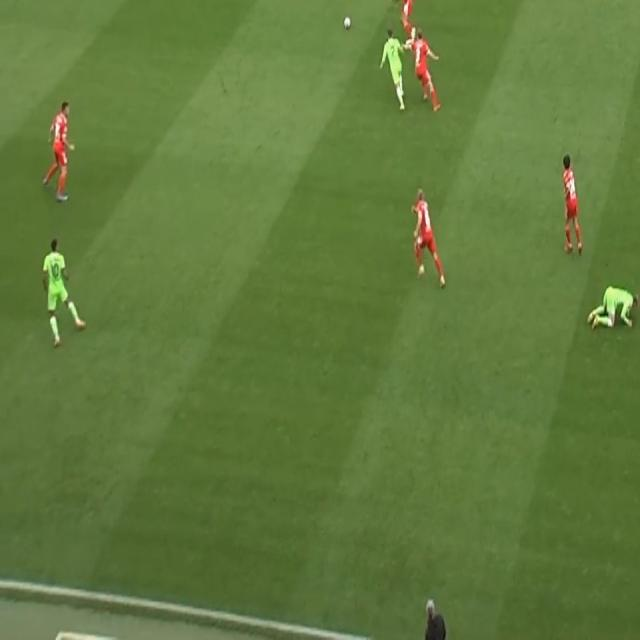ball: (344, 15, 352, 30)
